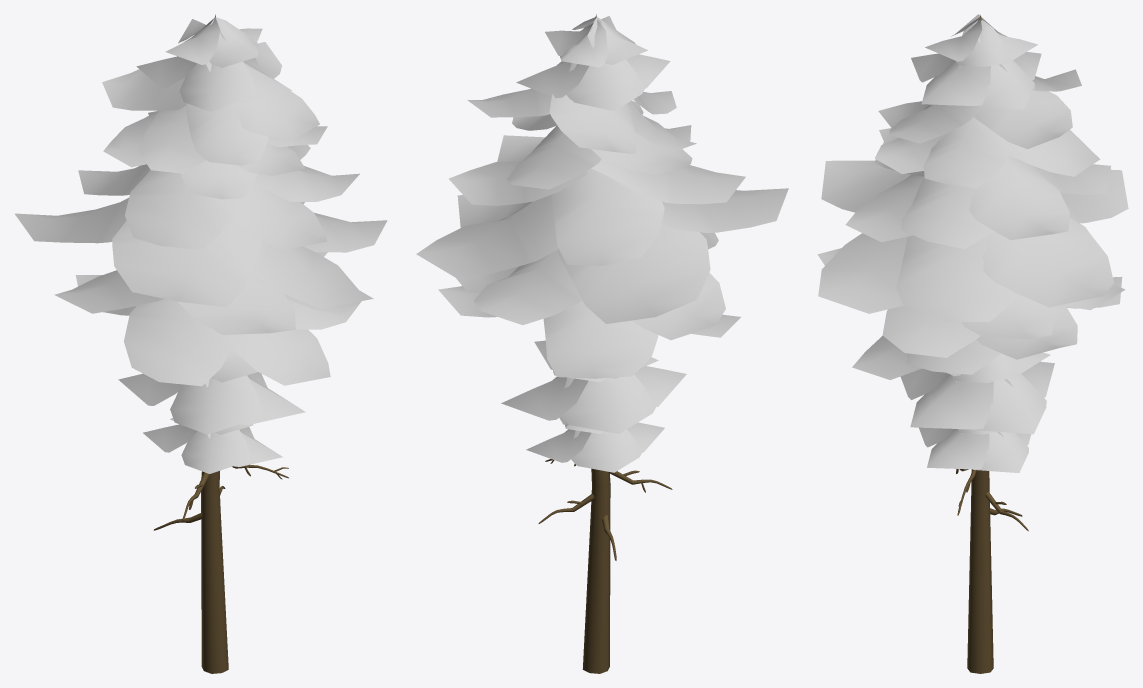
The model's file is PineTree_2.glb.
3 renders of one model, left to right at view 1: azimuth 30°, elevation 25°; view 2: azimuth 150°, elevation 25°; view 3: azimuth 270°, elevation 25°, orthographic.
Visible parts, largest first — view 1: PineTree_2_Cube.004; view 2: PineTree_2_Cube.004; view 3: PineTree_2_Cube.004.
Boxes of the visible parts, bbox=[...] form: PineTree_2_Cube.004: bbox=[15, 14, 387, 673]; PineTree_2_Cube.004: bbox=[416, 14, 788, 673]; PineTree_2_Cube.004: bbox=[817, 14, 1128, 673].
Bounding box in the file's own units: 3.28 × 6.91 × 2.98.
